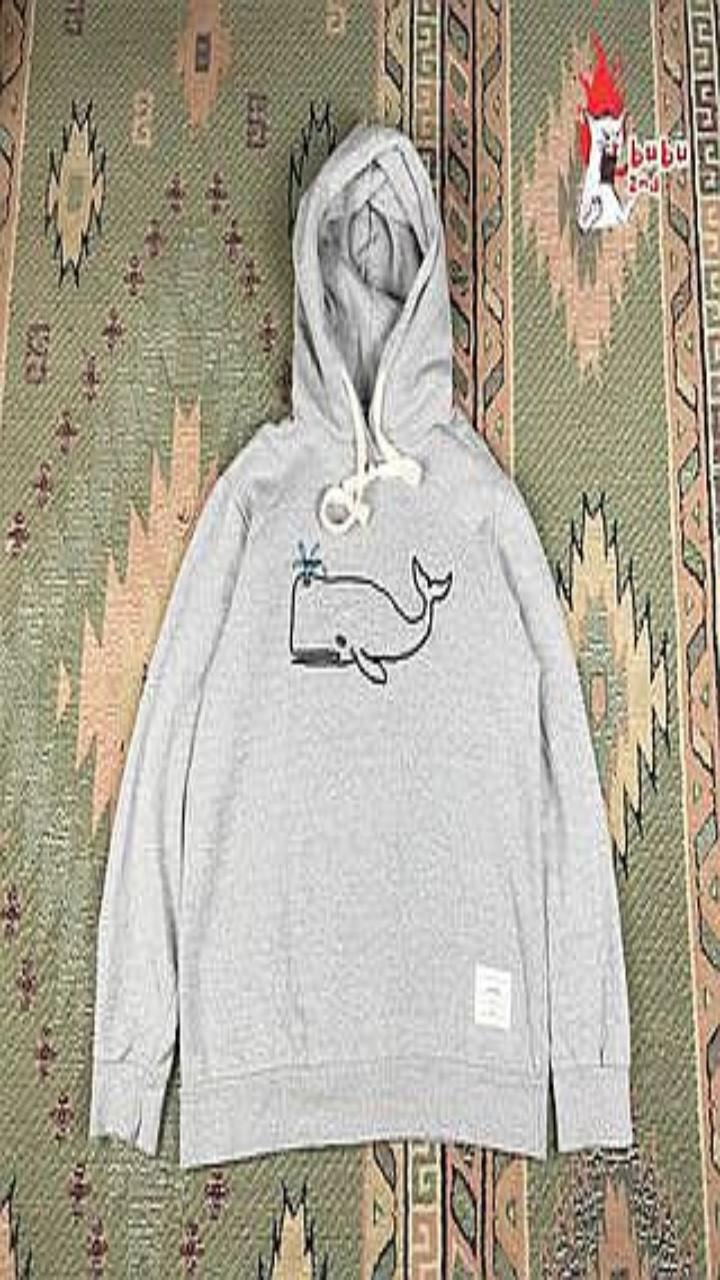Hoodie: (89, 123, 631, 1166)
